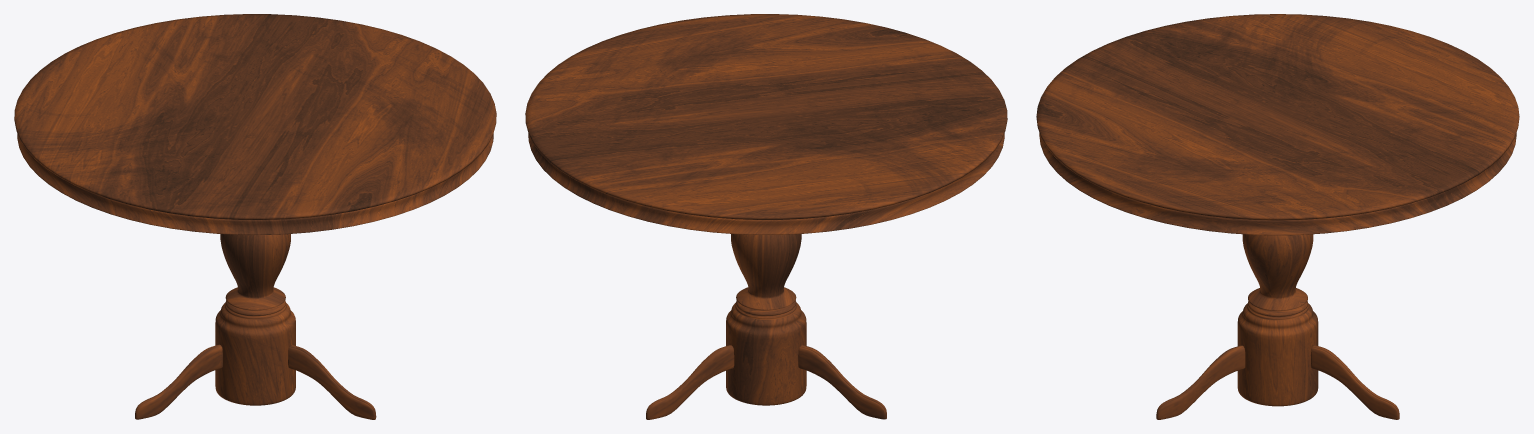
Rendered from free_wooden_round_dining_table_3d_model.glb.
3 renders of one model, left to right at view 1: azimuth 30°, elevation 25°; view 2: azimuth 150°, elevation 25°; view 3: azimuth 270°, elevation 25°, orthographic.
Visible parts, largest first — view 1: Table; view 2: Table; view 3: Table.
Part boxes in pixels (<box>): Table: <box>14,14,496,419</box>; Table: <box>525,14,1007,419</box>; Table: <box>1036,14,1519,419</box>.
Size of the model in its own units: 1.85 by 1.17 by 1.85.
Materials: 1 (1 with a texture image).
